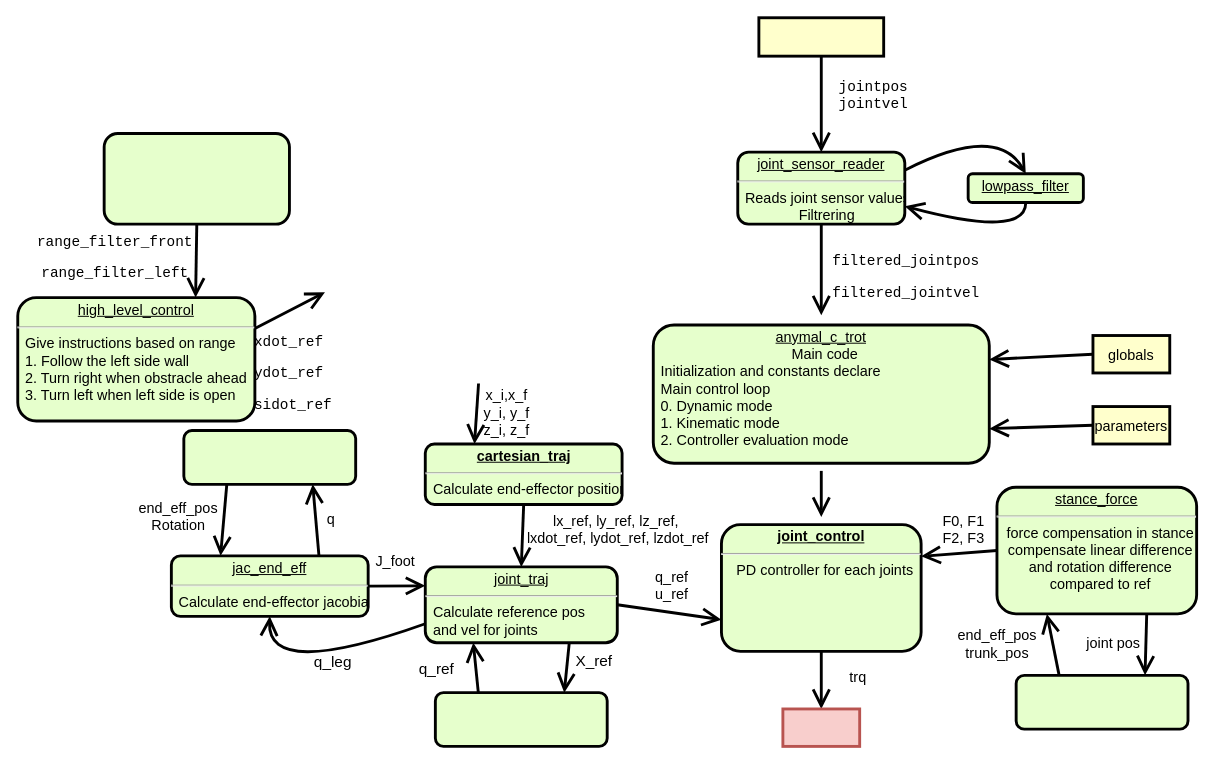
Some shapes in this 1214 by 764 pixel diagram are drawn without their labels. The shapes that lost their labels are listed below. From the top down, each one's box as (x1, y1, x2, y2) in pixels, then its label:
(757, 16, 885, 57): mj.data.sensordata
(102, 132, 290, 225): range_guided_control Reads range sensor values Preprocessing Filtrering
(182, 429, 357, 485): forward_kinematics_leg calculate leg positions
(433, 691, 608, 747): inverse_kinematics calculate joint angles
(1014, 673, 1189, 730): forward_kinematics_robot calculate body positions
(781, 707, 861, 747): mj.mj_step
